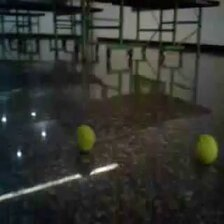tennis: (192, 134, 220, 166), (75, 124, 96, 152)
